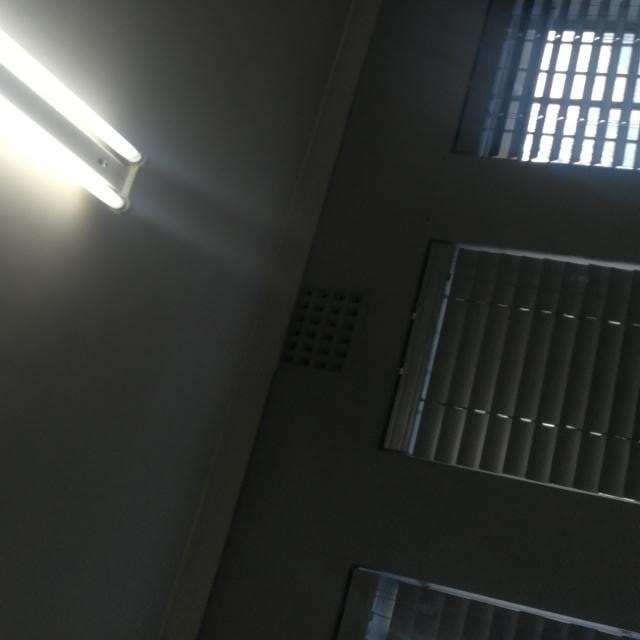fluorescent tube: (0, 0, 166, 223)
